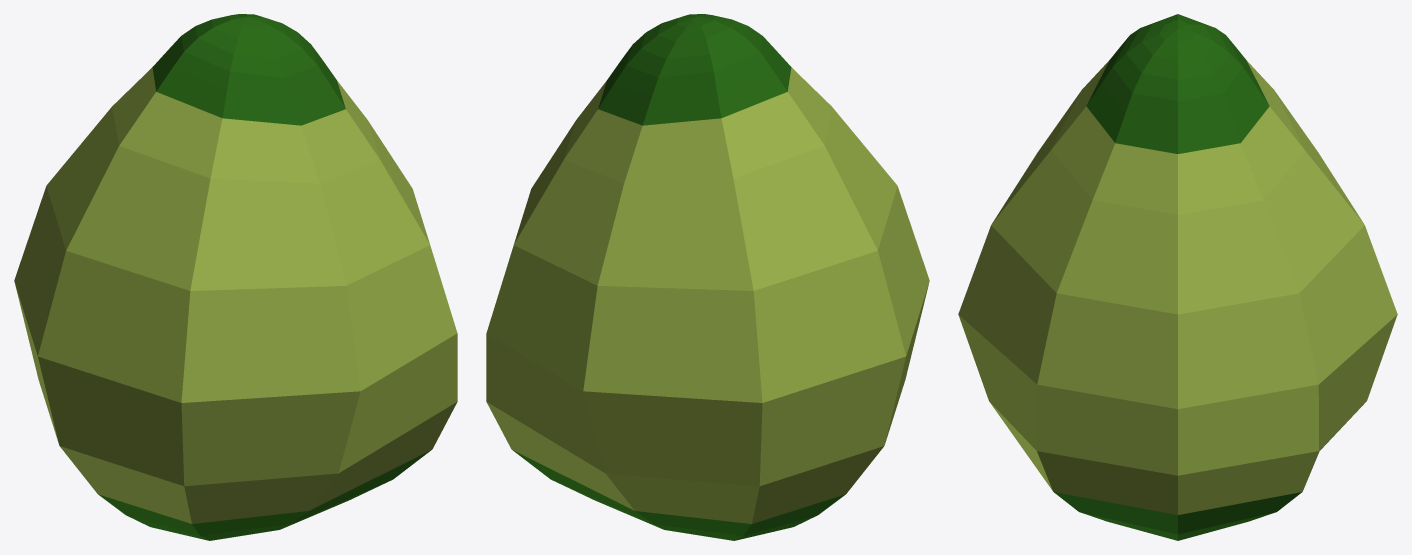
Rendered from sickle_seed.glb.
The picture shows the model from 3 angles, left to right: view 1: azimuth 30°, elevation 25°; view 2: azimuth 150°, elevation 25°; view 3: azimuth 270°, elevation 25°; orthographic projection. The views are drawn at different scales.
Visible parts, largest first — view 1: seme1; view 2: seme1; view 3: seme1.
Part boxes in pixels (x1,y1,x2,y2): seme1: [14, 14, 457, 540]; seme1: [486, 14, 929, 540]; seme1: [958, 14, 1397, 540].
Size of the model in its own units: 1.75 by 2.1 by 1.7.
